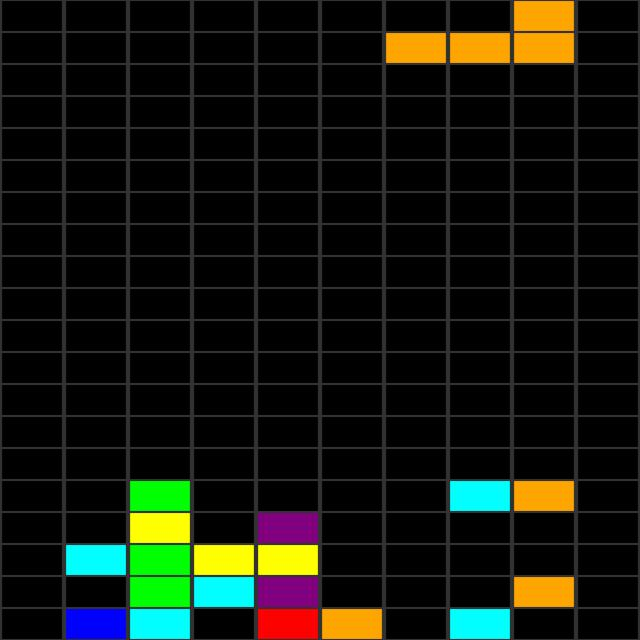Tetrimino_I: (386, 0, 574, 62)
